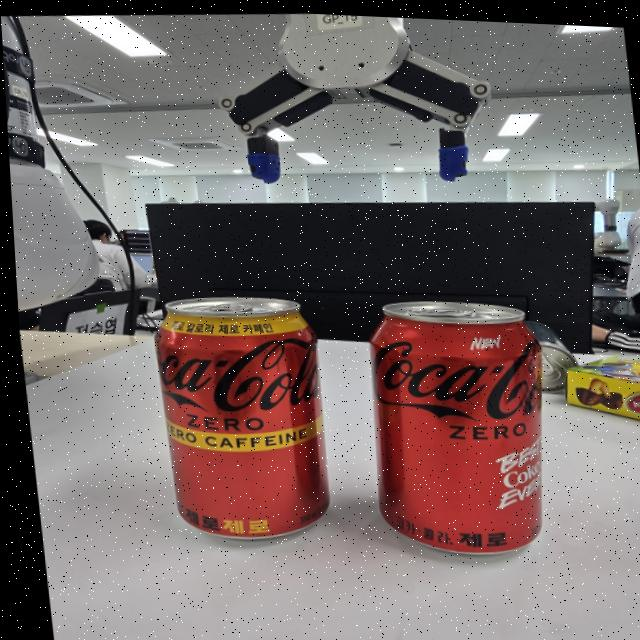can_coke_decaf: (158, 293, 336, 535)
can_coke_zero: (371, 303, 547, 554)
